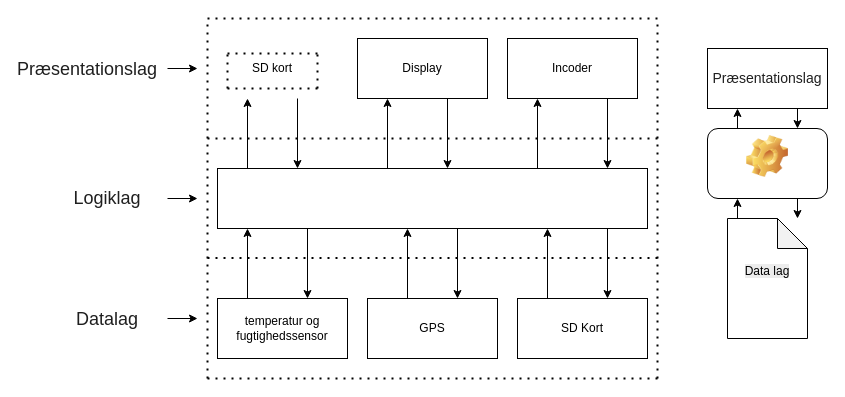
The diagram is 845 pixels wide and 397 high, and some of its shapes have lost their labels. The centre of each missing label's shape, as x and y in pixels:
Ardoino: pixel 432 198
Logik lag: pixel 767 163
